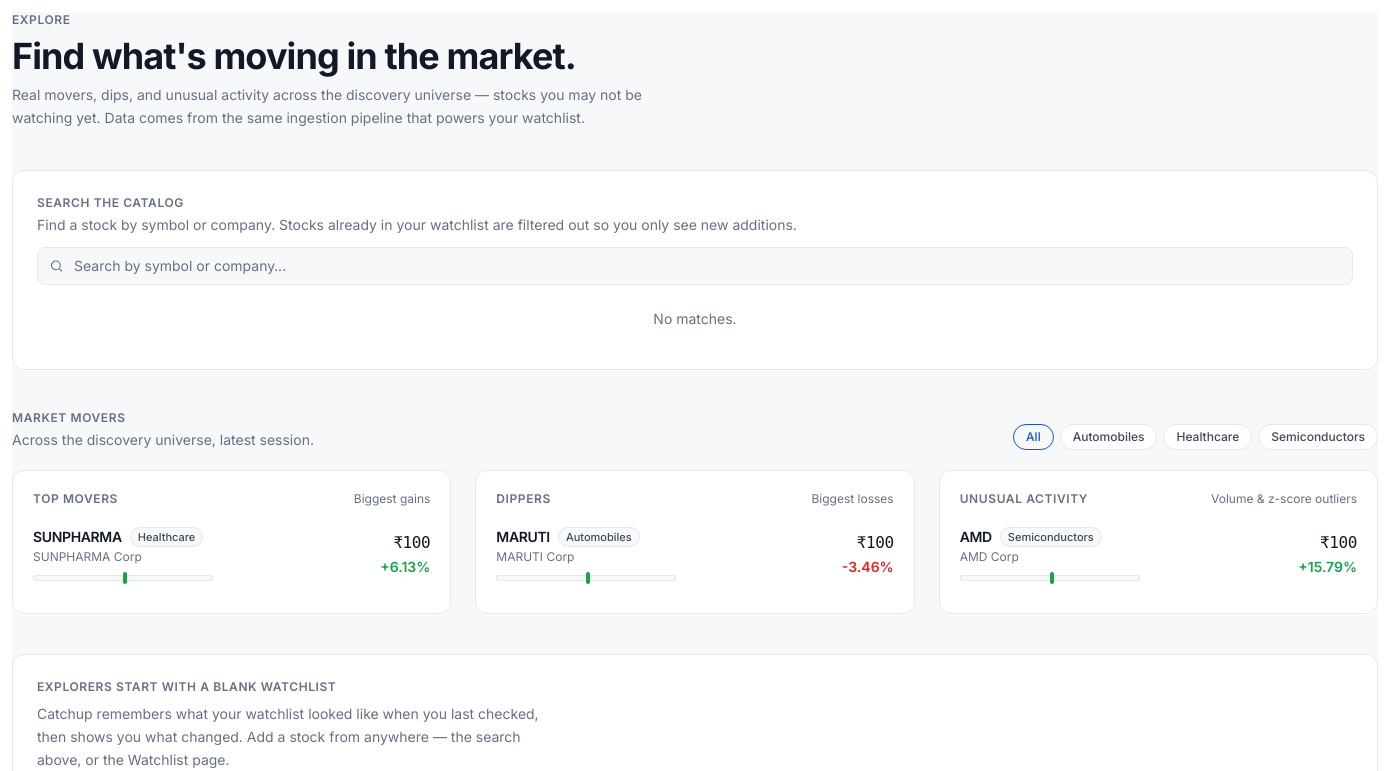
ExplorePage › shows an honest per-sector empty state when a sector has no valid data
The width and height of the screenshot is (1390, 771).
Check: the text "SUNPHARMA" is shown, box top-left (33, 527), bottom-right (122, 547)
Click the button "Healthcare" at (1208,436), box top-left (1164, 424), bottom-right (1252, 450)
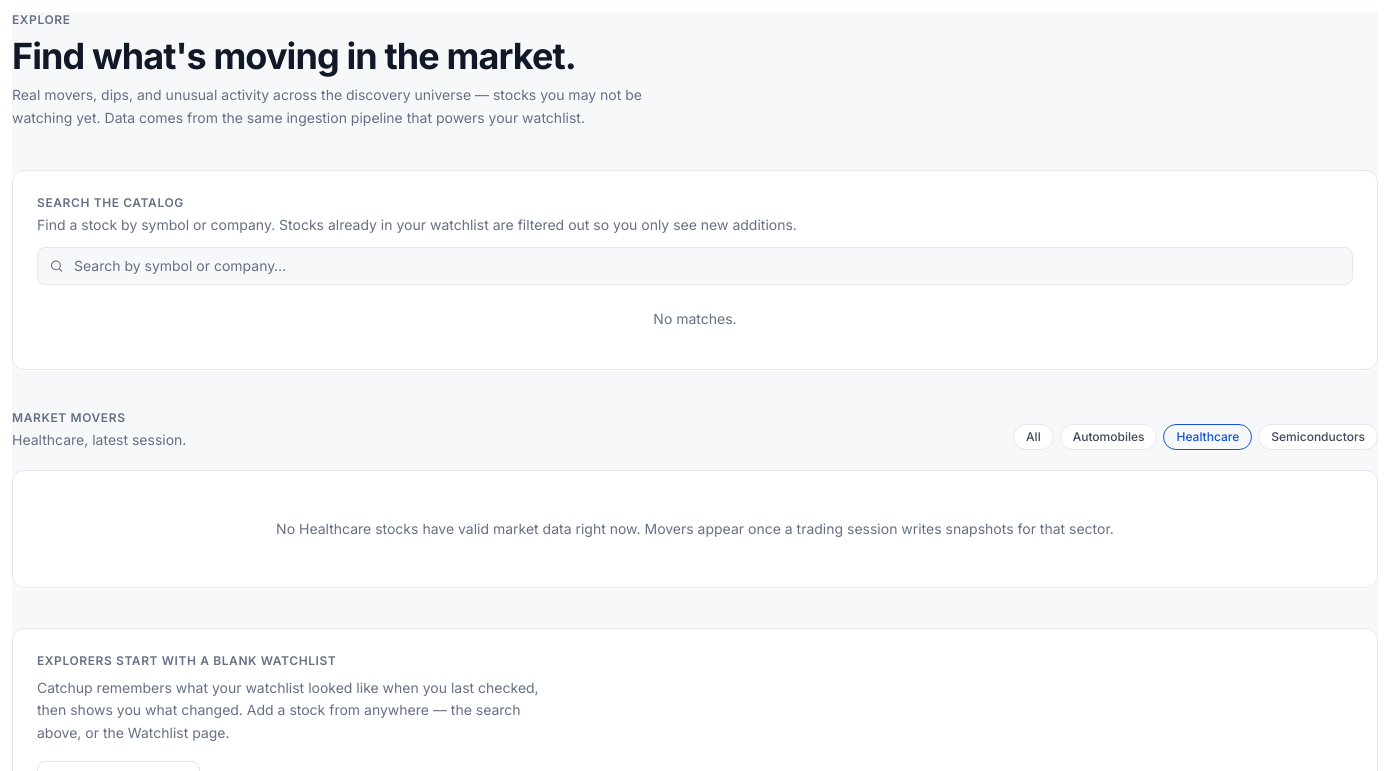
Check: the text "No Healthcare stocks have valid market data" is shown, box top-left (276, 520), bottom-right (1114, 536)
